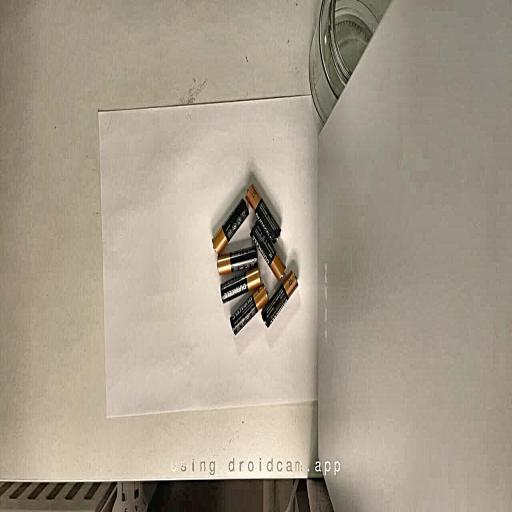DuracellAA: (212, 198, 249, 253), (246, 184, 281, 242), (250, 221, 285, 279), (263, 271, 298, 326), (230, 285, 268, 335), (220, 267, 262, 302), (217, 245, 257, 274)
